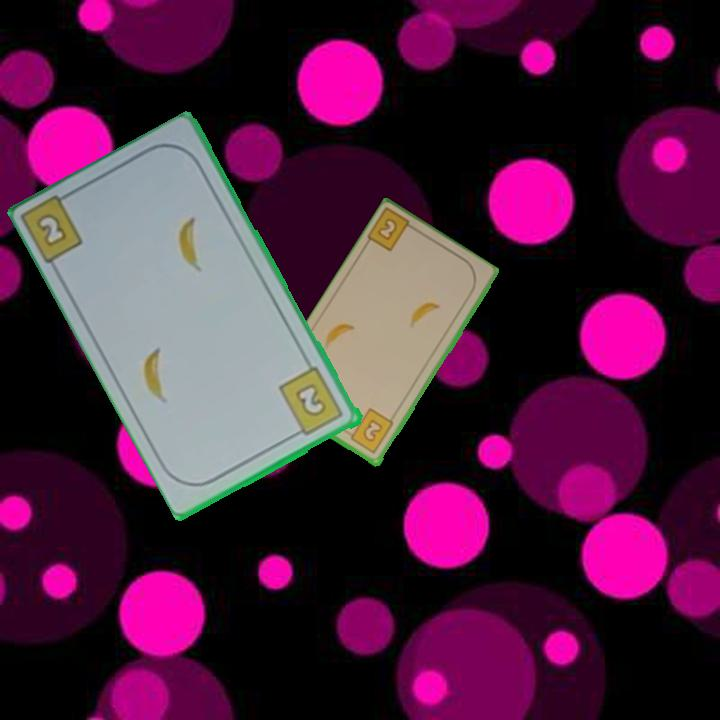2b: (276, 363, 347, 440), (343, 405, 397, 457), (364, 206, 421, 255), (33, 210, 71, 250)
